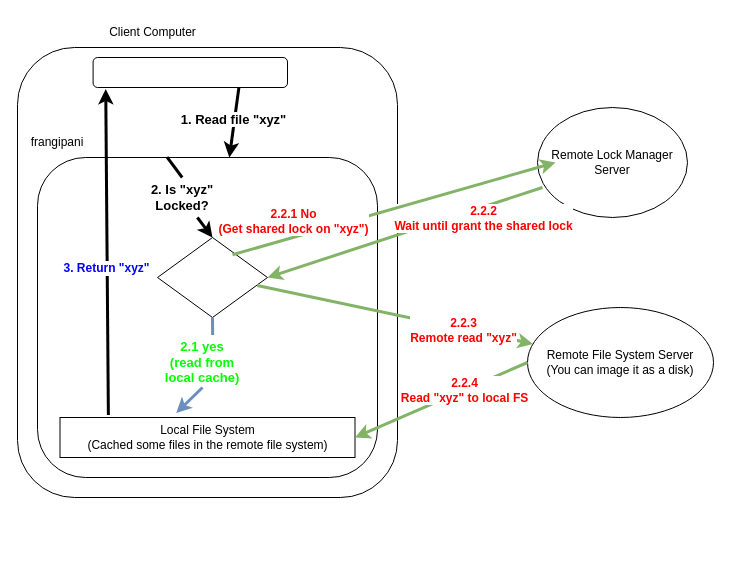
Some shapes in this 731 by 564 pixel diagram are drawn without their labels. The shapes that lost their labels are listed below. From the top down, each one's centre as x and y in pixels, then its label:
At (x=190, y=72): "Application".
At (x=212, y=277): "Local Lock Manager".
